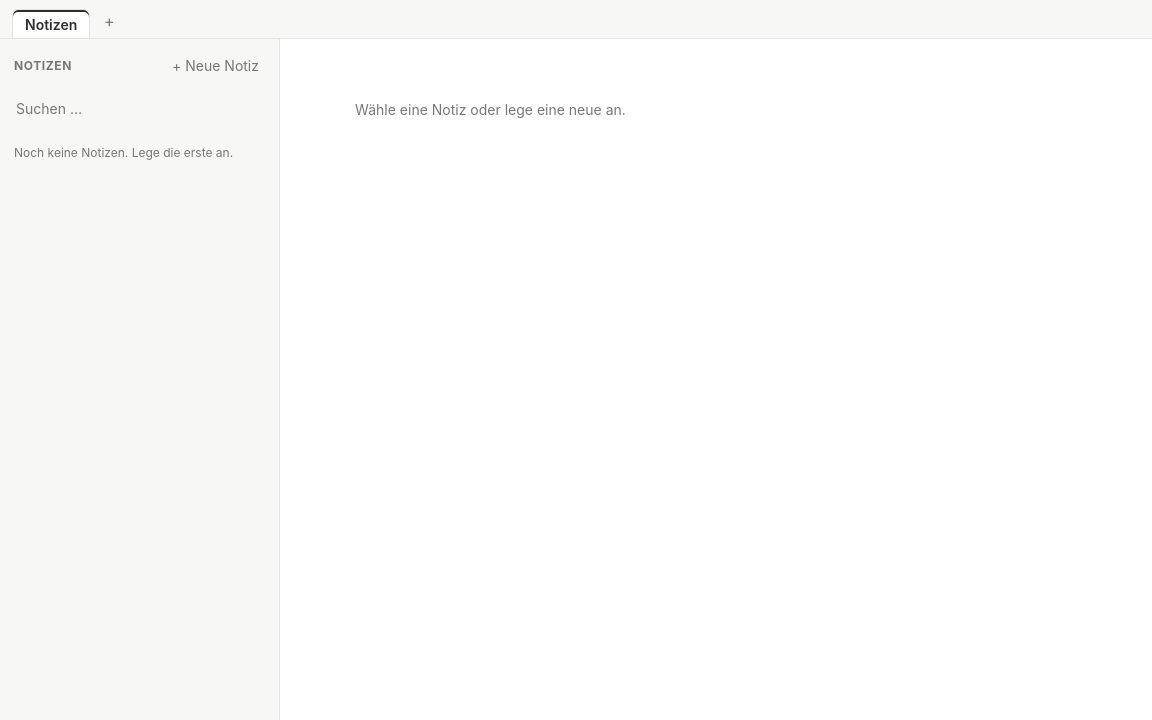
Test case: NotizenView › zeigt den leeren Zustand und legt eine neue Notiz an
Expected: the text "Noch keine Notizen. Lege die erste an." is shown, [14,145,265,160]
Expected: the text "Wähle eine Notiz oder lege eine neue an." is shown, [355,101,626,118]
Click the button "+ Neue Notiz": (216, 66) [166,55,265,76]
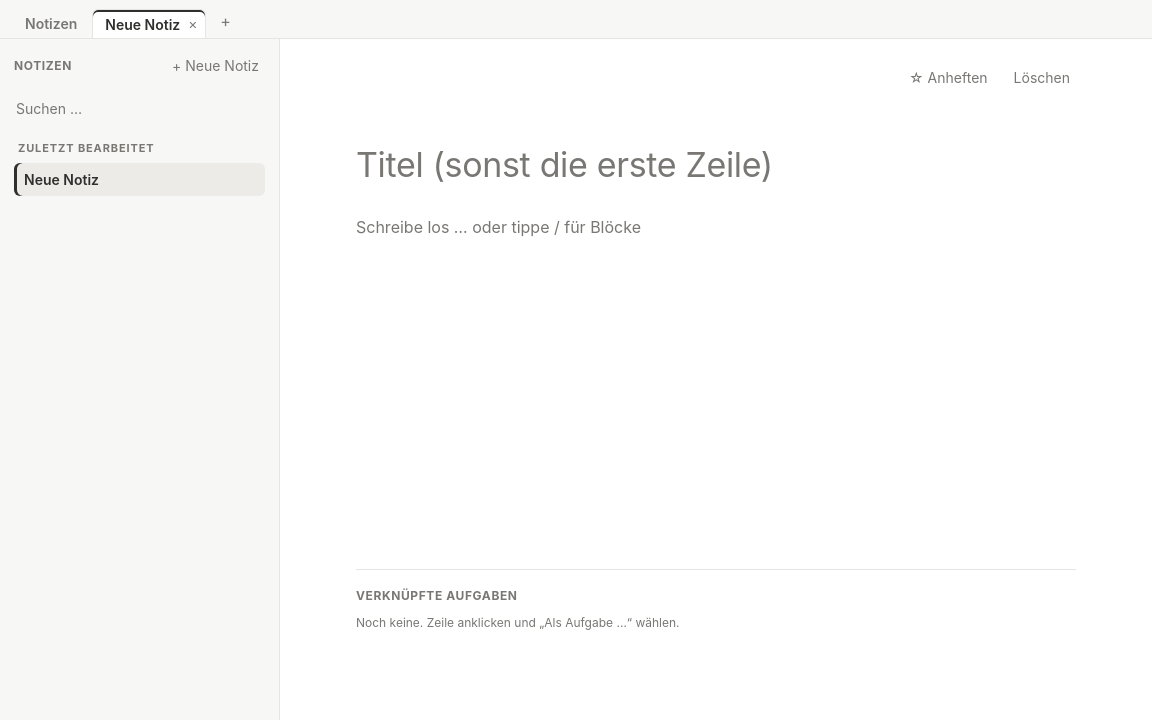
Expected: the field named "Notizinhalt" is shown, [356,212,1076,512]
